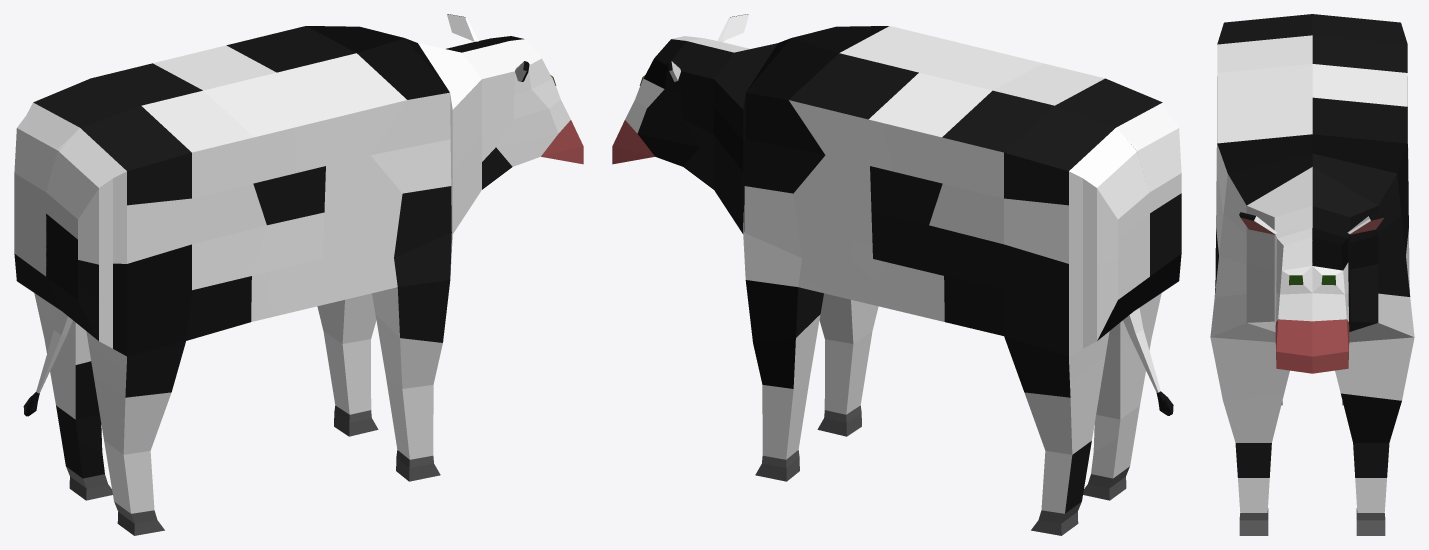
File: Cow.fbx
3 views of the same model, side by side, from view 1: azimuth 30°, elevation 25°; view 2: azimuth 150°, elevation 25°; view 3: azimuth 270°, elevation 25° (orthographic). The views are drawn at different scales.
Parts seen in each view (by area): view 1: cow; view 2: cow; view 3: cow.
Part boxes in pixels (x1,y1,x2,y2): cow: (14, 14, 583, 535); cow: (612, 14, 1181, 535); cow: (1210, 14, 1414, 535).
Bounding box in the file's own units: 8.61 × 6.19 × 2.98.
